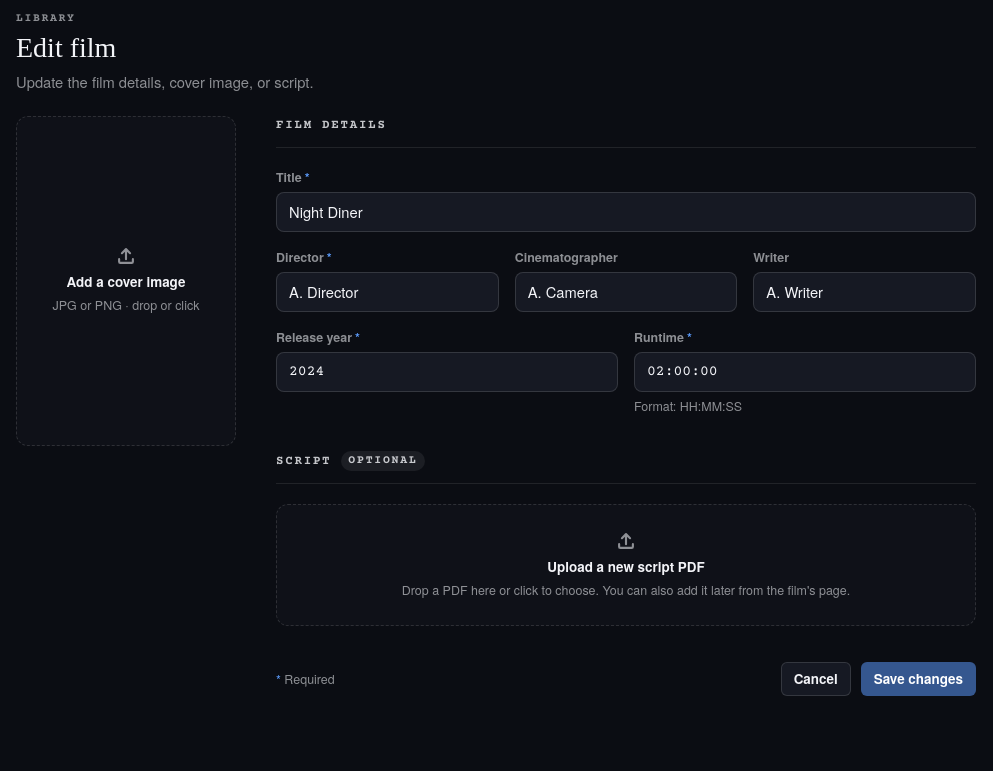
FilmFormPage film editing › shows the shared runtime validation message without sending a request
The width and height of the screenshot is (993, 771).
Expected: the field showing "Night Diner" is shown, [276,192,976,232]
Step 1. Replace the text in the field with placeholder "HH:MM:SS" with "00:60:00" → [805, 372], box [634,352,976,392]
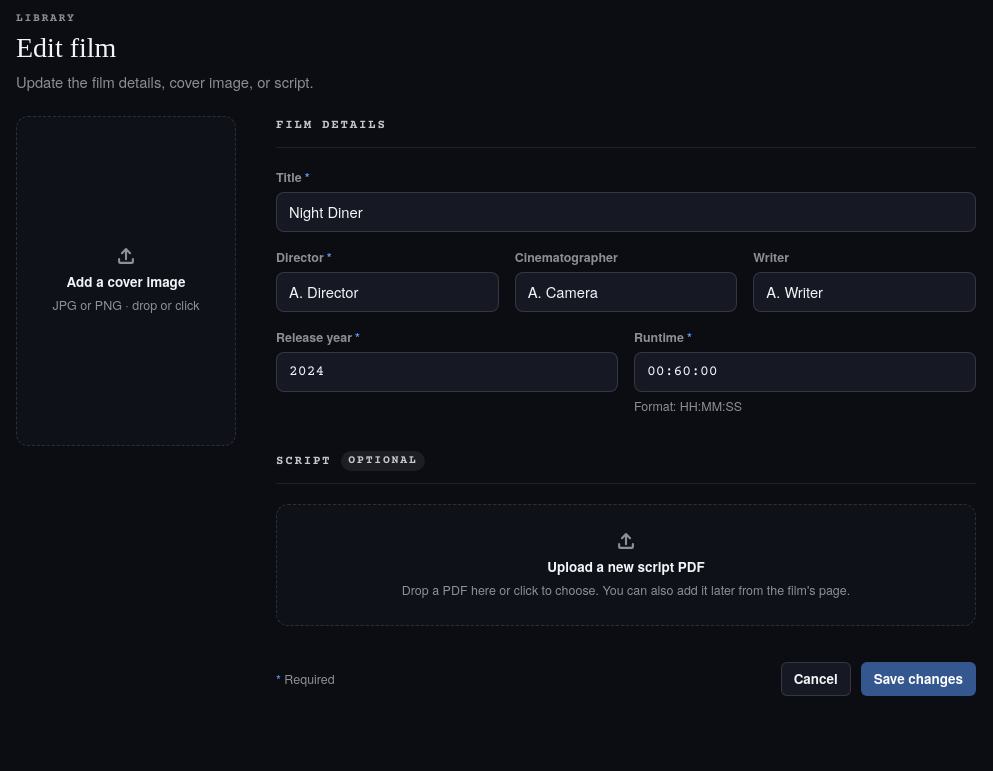
Step 2. Submit the form named "Save changes"
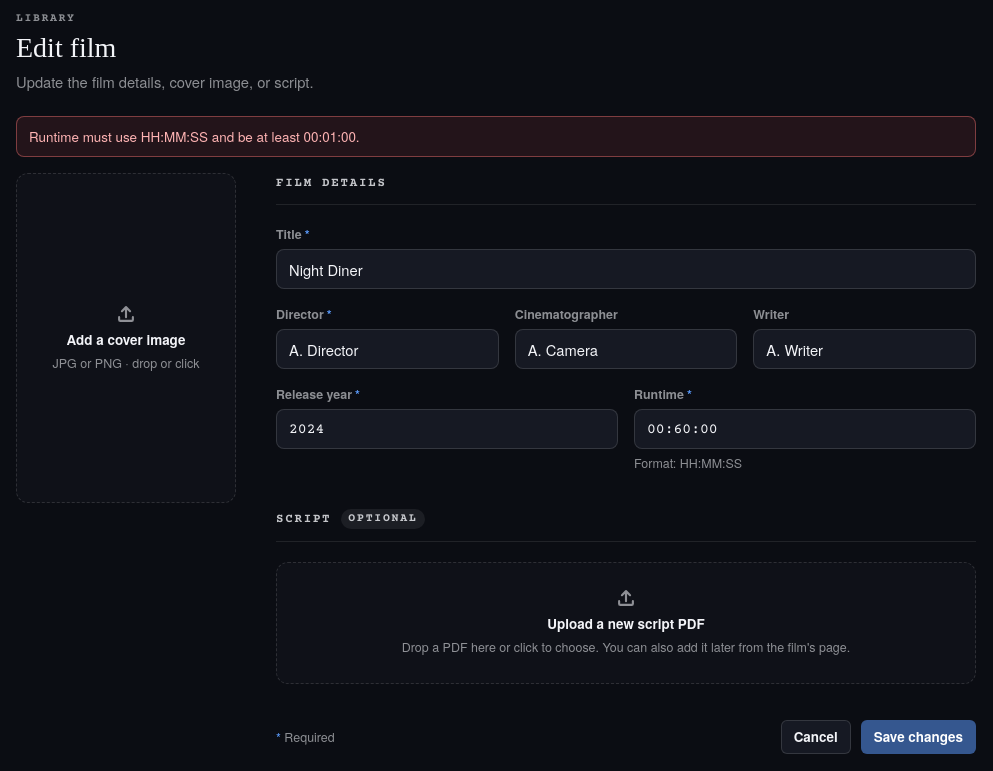
Expected: the text "Runtime must use HH:MM:SS and be at least 00:01:00." is shown, [29,127,360,146]
